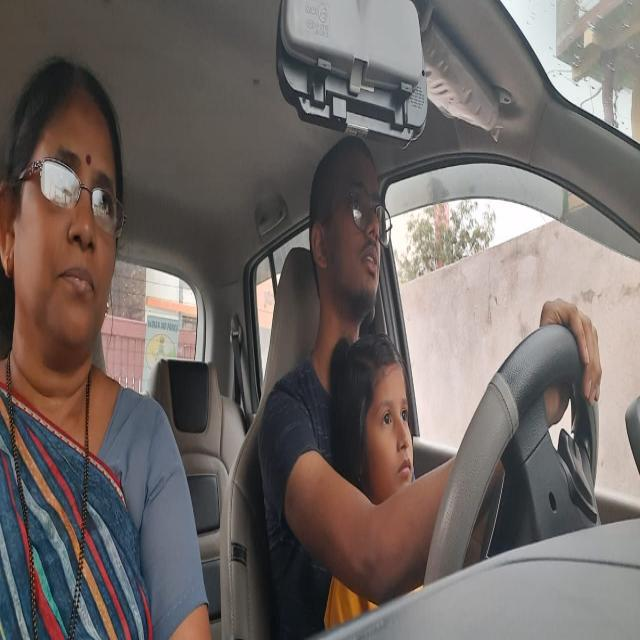child: (330, 333, 419, 510)
person: (4, 61, 127, 382), (308, 136, 388, 321)
